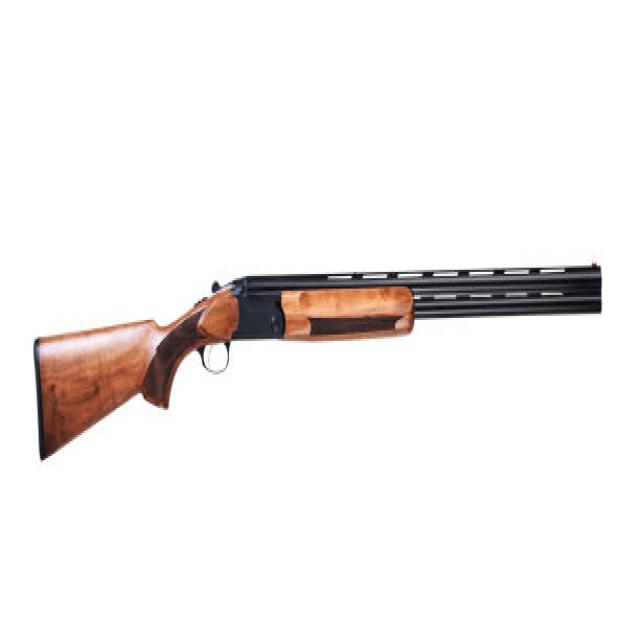rifle: (29, 249, 609, 480)
